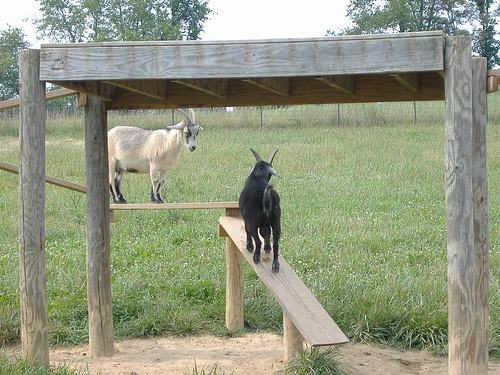goat: (107, 108, 205, 203), (237, 147, 283, 274)
